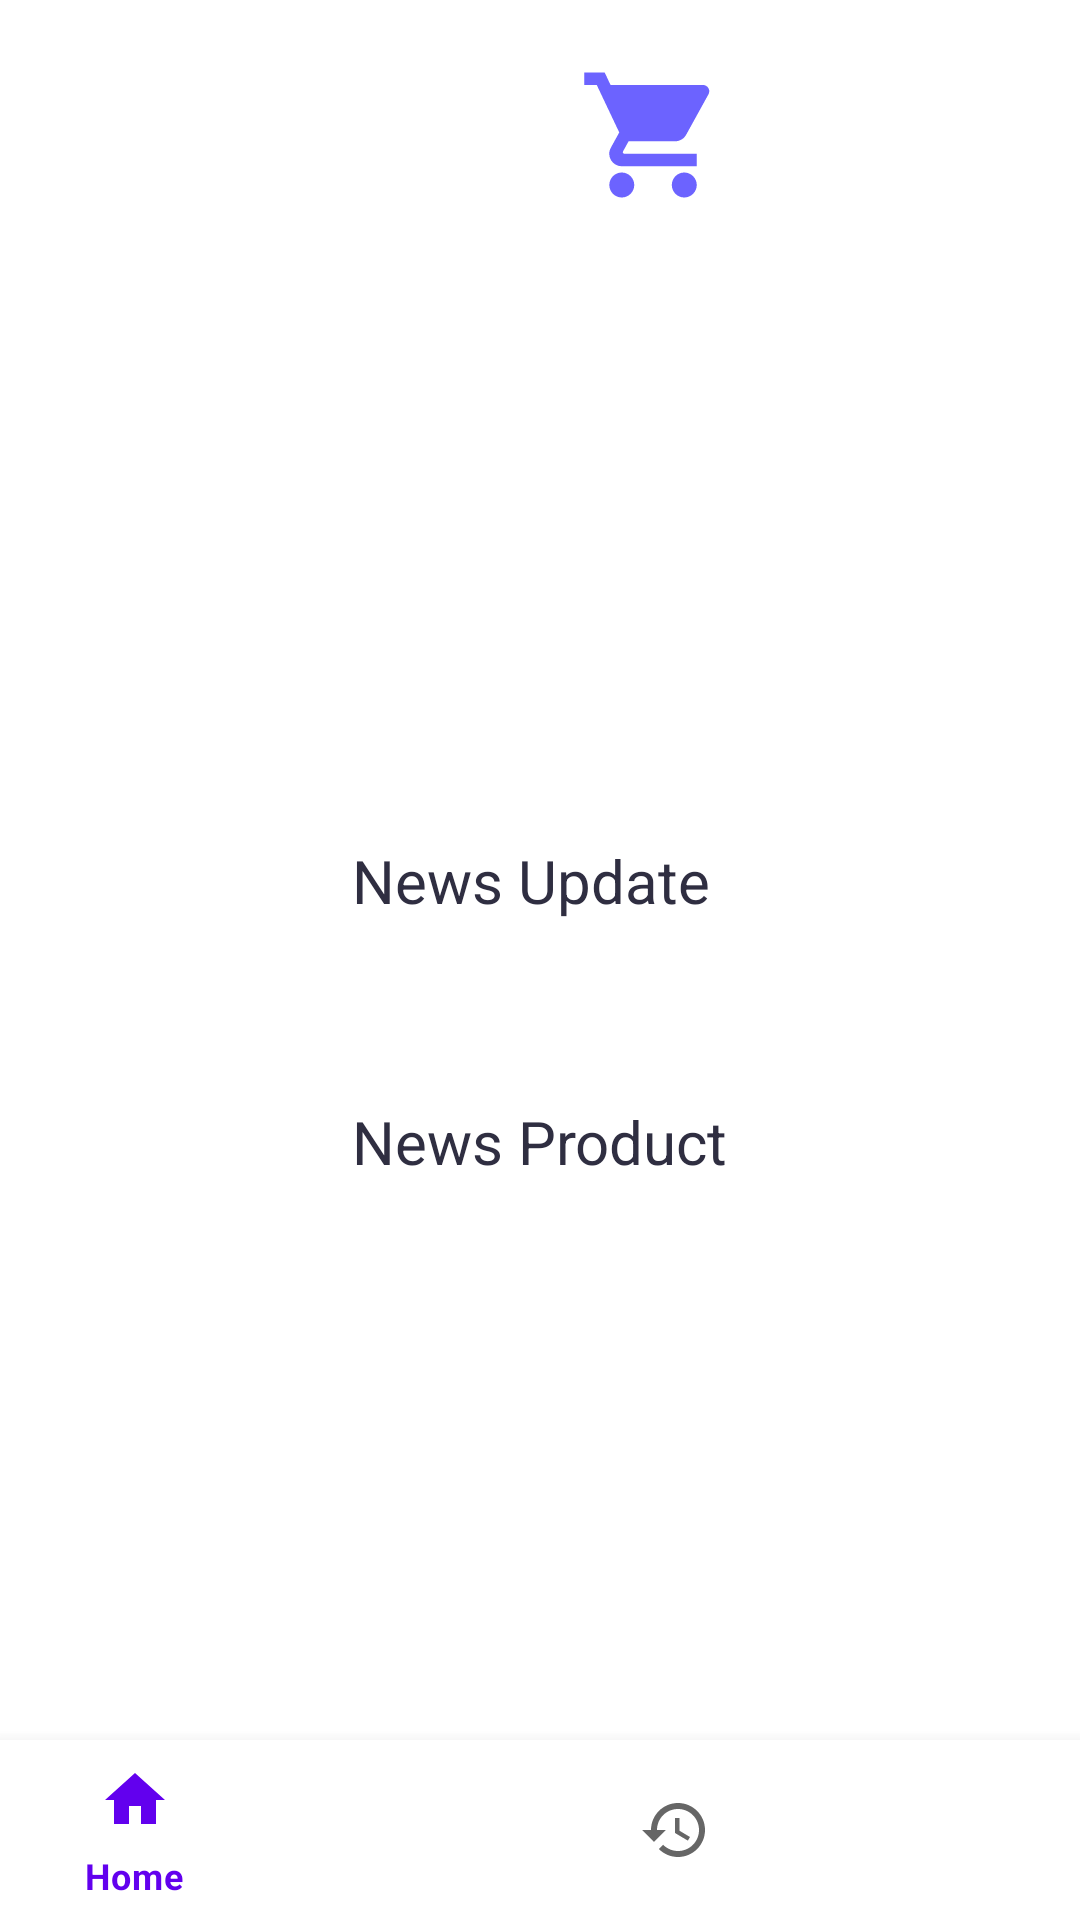

Screen size 1080px x 1920px. Icon name, then its center in pixels as (x=x, y=y):
cart: (x=647, y=135)
